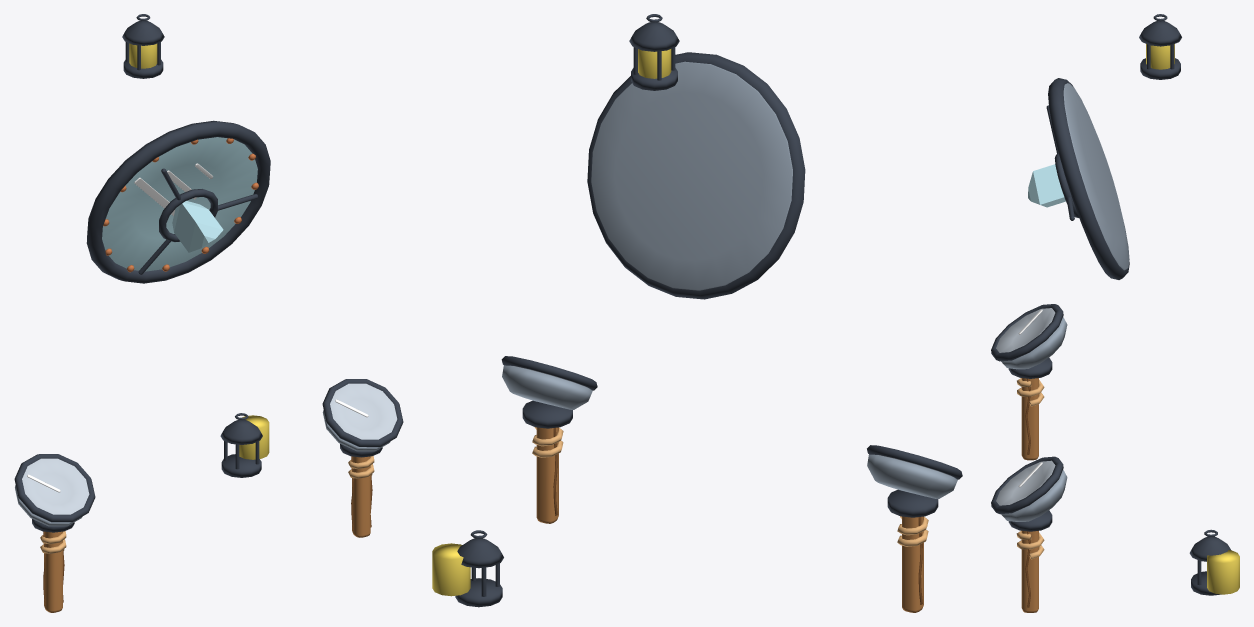
The model's file is SunMirrorTower_T1_Upgrades.fbx.
3 views of the same model, side by side, from view 1: azimuth 30°, elevation 25°; view 2: azimuth 150°, elevation 25°; view 3: azimuth 270°, elevation 25° (orthographic). The views are drawn at different scales.
Parts seen in each view (by area): view 1: SunMirrorTowerT1U1PolishedMirror, SunMirrorTowerT1U3Tracker1, SunMirrorTowerT1U3Tracker2, SunMirrorTowerT1U2Beacon2, SunMirrorTowerT1U5RainbowLensGlow, SunMirrorTowerT1U2Beacon1, SunMirrorTowerT1U5RainbowLens, SunMirrorTowerT1U2Beacon2Glow, SunMirrorTowerT1U1PolishedMirrorGlow, SunMirrorTowerT1U2Beacon1Glow; view 2: SunMirrorTowerT1U1PolishedMirror, SunMirrorTowerT1U3Tracker2, SunMirrorTowerT1U3Tracker1, SunMirrorTowerT1U2Beacon2, SunMirrorTowerT1U2Beacon1, SunMirrorTowerT1U2Beacon2Glow, SunMirrorTowerT1U2Beacon1Glow; view 3: SunMirrorTowerT1U1PolishedMirror, SunMirrorTowerT1U3Tracker1, SunMirrorTowerT1U3Tracker2, SunMirrorTowerT1U2Beacon1, SunMirrorTowerT1U2Beacon2Glow, SunMirrorTowerT1U5RainbowLensGlow, SunMirrorTowerT1U2Beacon2, SunMirrorTowerT1U5RainbowLens, SunMirrorTowerT1U2Beacon1Glow.
Boxes of the visible parts, x1,y1,x2,y2 form: SunMirrorTowerT1U1PolishedMirror: [86, 120, 270, 283]; SunMirrorTowerT1U3Tracker1: [14, 454, 95, 612]; SunMirrorTowerT1U3Tracker2: [322, 379, 403, 537]; SunMirrorTowerT1U2Beacon2: [220, 413, 262, 477]; SunMirrorTowerT1U5RainbowLensGlow: [172, 201, 223, 252]; SunMirrorTowerT1U2Beacon1: [122, 14, 164, 78]; SunMirrorTowerT1U5RainbowLens: [138, 168, 257, 274]; SunMirrorTowerT1U2Beacon2Glow: [239, 415, 269, 459]; SunMirrorTowerT1U1PolishedMirrorGlow: [134, 163, 212, 215]; SunMirrorTowerT1U2Beacon1Glow: [129, 43, 157, 68]; SunMirrorTowerT1U1PolishedMirror: [587, 52, 805, 299]; SunMirrorTowerT1U3Tracker2: [501, 356, 597, 523]; SunMirrorTowerT1U3Tracker1: [867, 445, 962, 612]; SunMirrorTowerT1U2Beacon2: [455, 530, 503, 607]; SunMirrorTowerT1U2Beacon1: [629, 14, 679, 90]; SunMirrorTowerT1U2Beacon2Glow: [432, 543, 470, 596]; SunMirrorTowerT1U2Beacon1Glow: [638, 49, 671, 78]; SunMirrorTowerT1U1PolishedMirror: [1048, 78, 1129, 279]; SunMirrorTowerT1U3Tracker1: [991, 304, 1067, 460]; SunMirrorTowerT1U3Tracker2: [991, 456, 1067, 612]; SunMirrorTowerT1U2Beacon1: [1139, 14, 1181, 79]; SunMirrorTowerT1U2Beacon2Glow: [1207, 550, 1239, 594]; SunMirrorTowerT1U5RainbowLensGlow: [1028, 164, 1065, 207]; SunMirrorTowerT1U2Beacon2: [1189, 529, 1230, 595]; SunMirrorTowerT1U5RainbowLens: [1046, 105, 1079, 220]; SunMirrorTowerT1U2Beacon1Glow: [1146, 44, 1174, 69].
Bounding box in the file's own units: 136 × 173 × 75.47.
